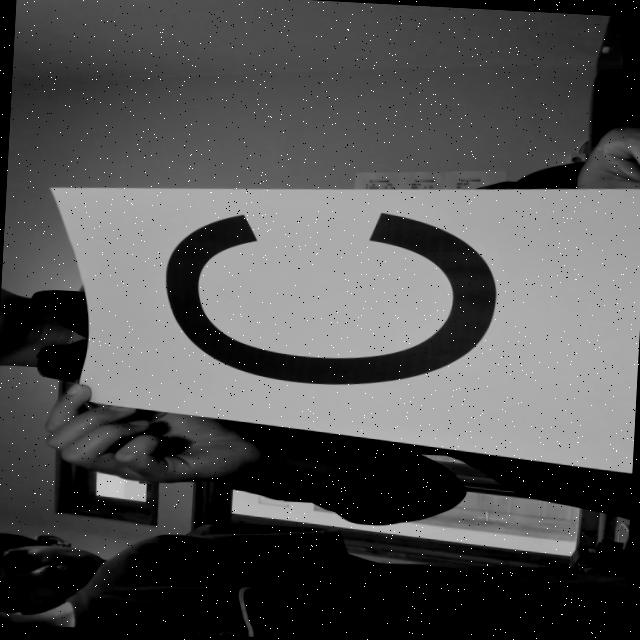c: (144, 194, 520, 406)
